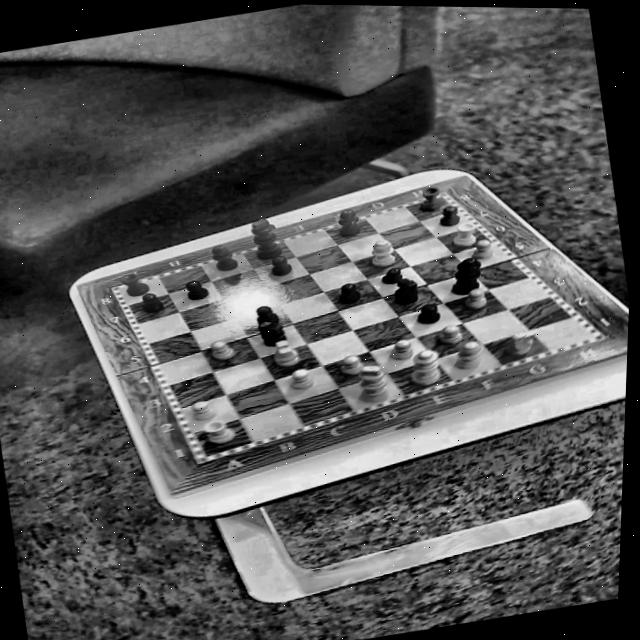chessboard: (117, 194, 592, 456)
